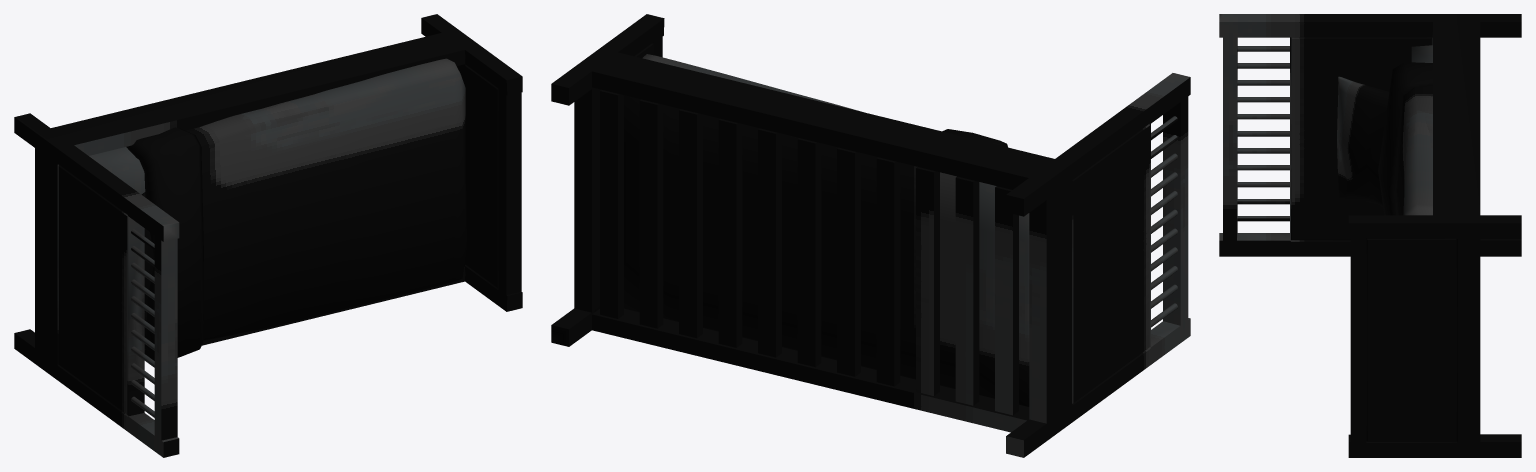
The model's file is bed-jpuihb-0.obj.
3 views of the same model, side by side, from view 1: azimuth 30°, elevation 25°; view 2: azimuth 150°, elevation 25°; view 3: azimuth 270°, elevation 25° (orthographic). The views are drawn at different scales.
Size of the model in its own units: 1.98 by 1.04 by 1.21.
1 material, 1 textured.
